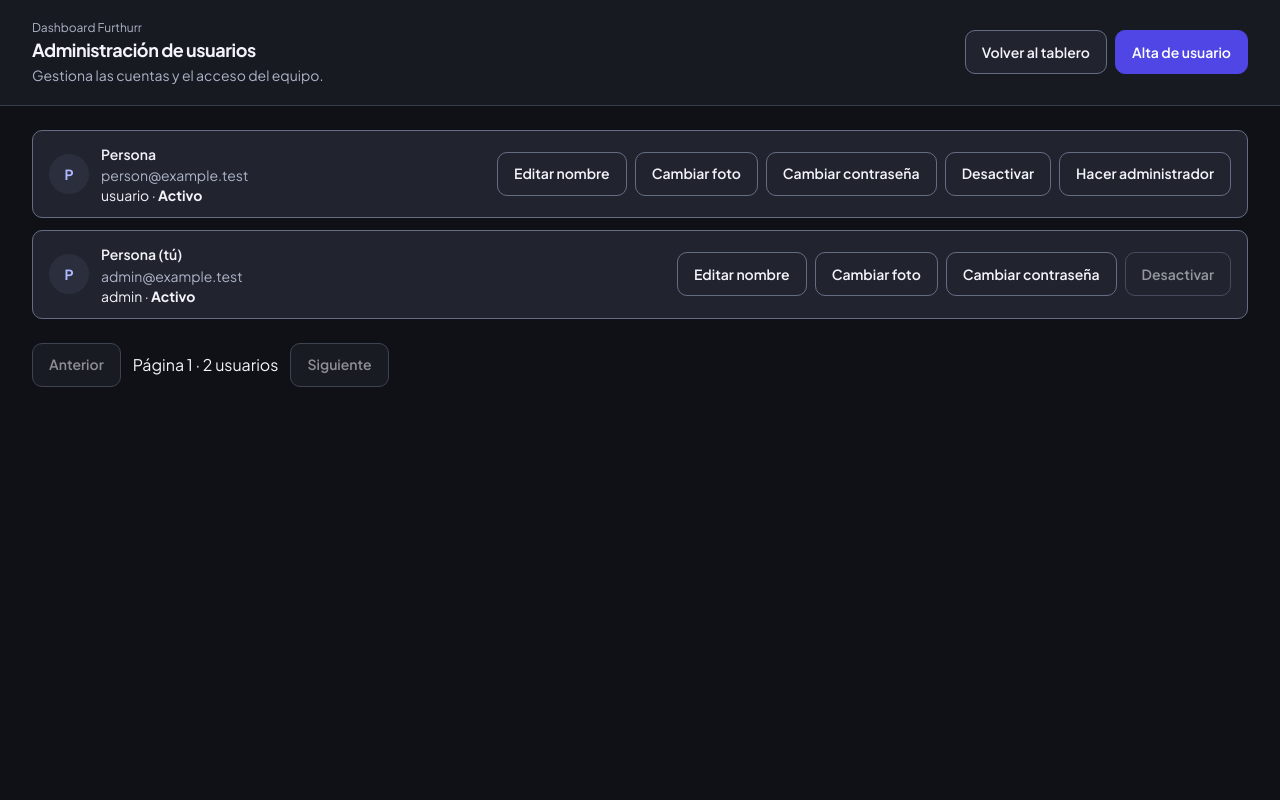
Test: Administración de usuarios › requiere seleccionar una imagen antes de guardar la foto
What coordinates should you click on to do the following:
click the button with aria-label "Cambiar foto de person@example.test"
I would click on:
 (696, 174)
Its box is [635,152,758,196].
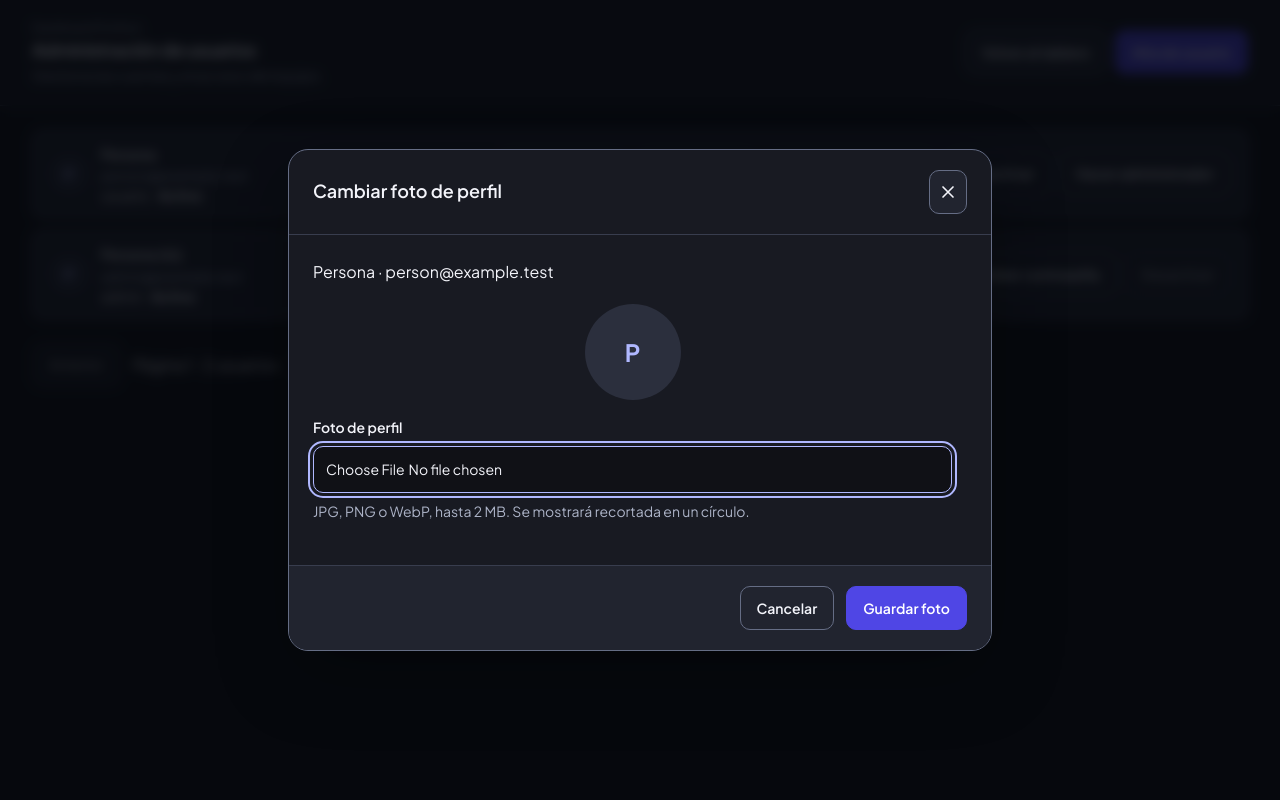
What coordinates should you click on to do the following:
click the button "Guardar foto"
I would click on:
 (907, 608)
Its box is [846,586,967,630].
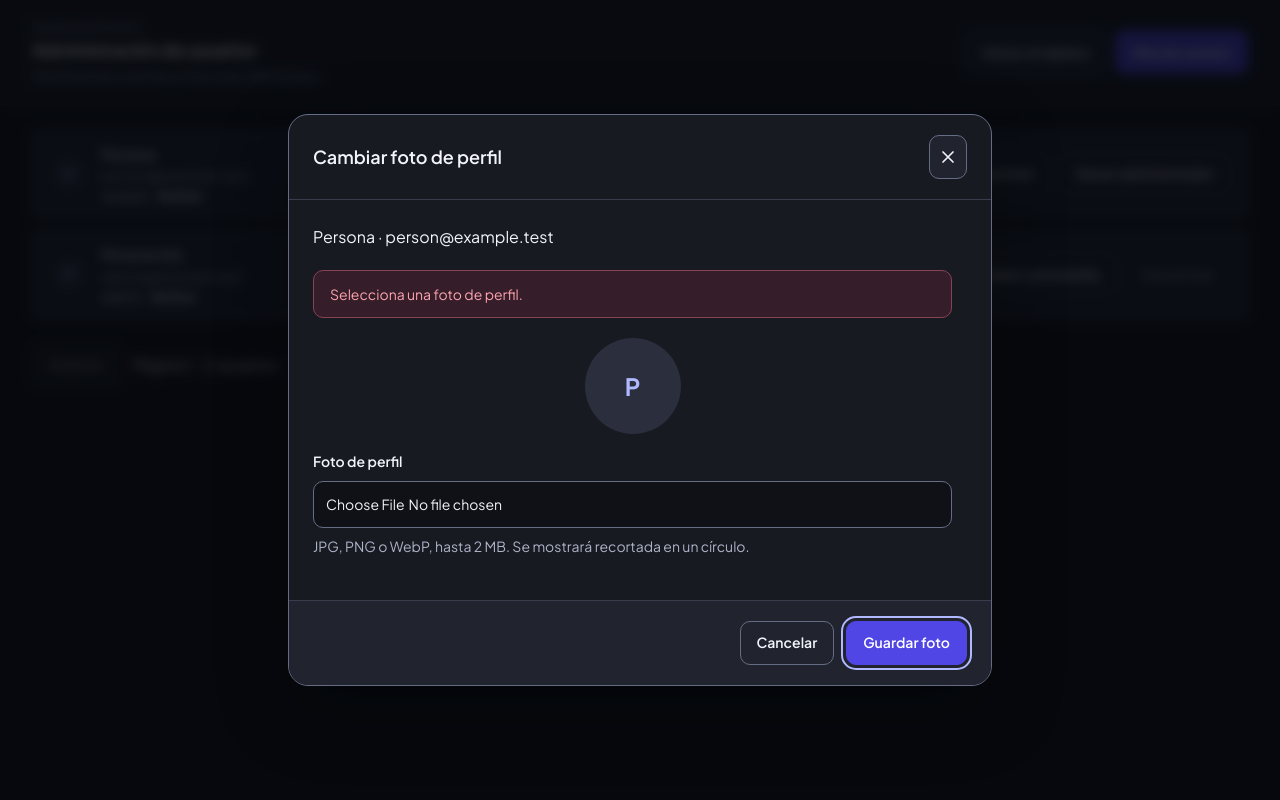
Expected: the message shows "Selecciona una foto", [330,285,523,303]
